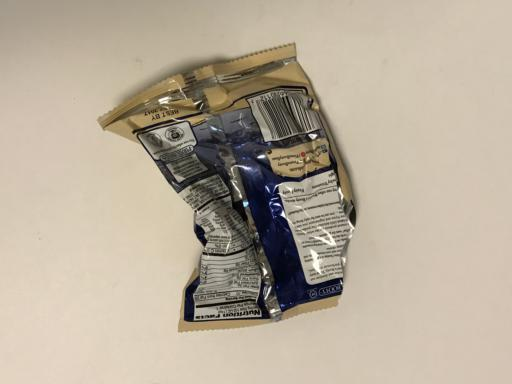trash: (97, 41, 358, 333)
